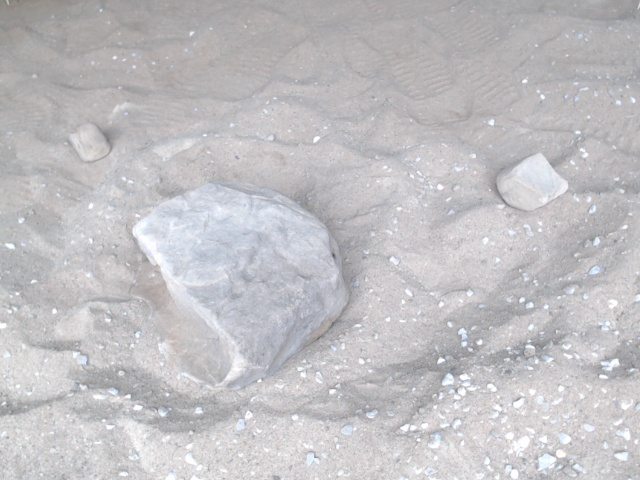rock: (122, 176, 356, 397), (491, 149, 573, 216), (64, 119, 117, 168)
